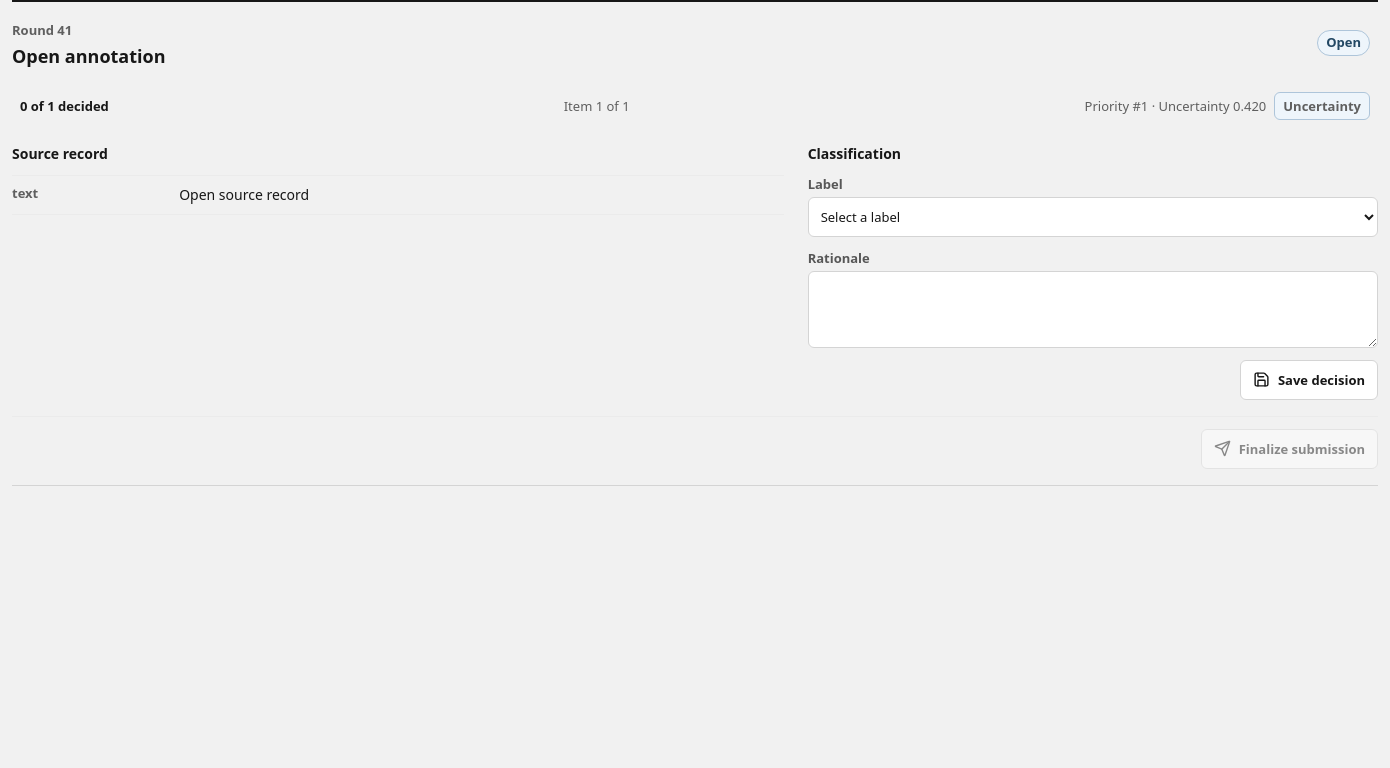
Test: RoundWorkbench › preserves ordinary decision authoring on open rounds
Expected: the text "Open source record" is shown, [179,185,309,204]
Select "Relevant" in the dropdown labelled "Label" at [1093, 217], box [808,197,1378,237]
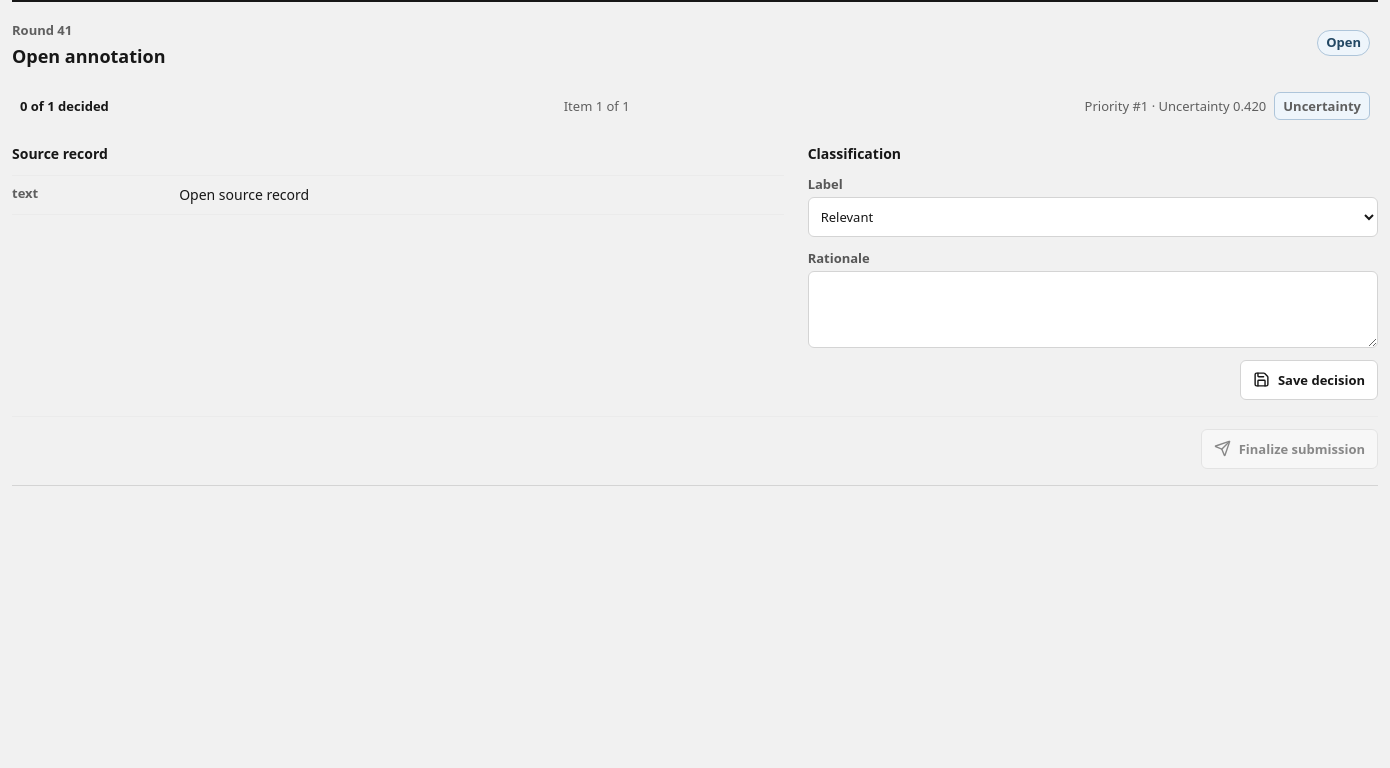
Click the button "Save decision" at [1309, 380], box [1240,360,1378,400]
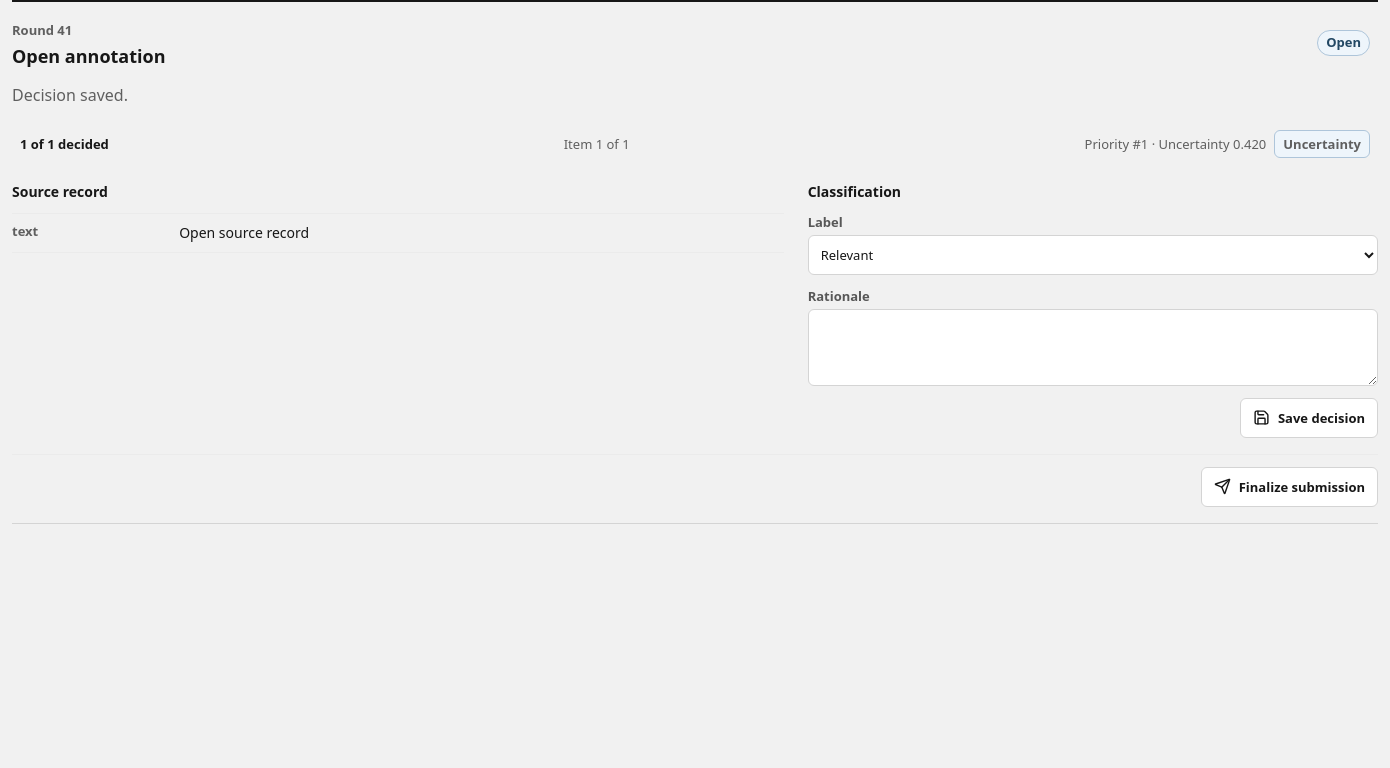
Expected: the button "Finalize submission" is enabled, [1201,466,1378,506]
